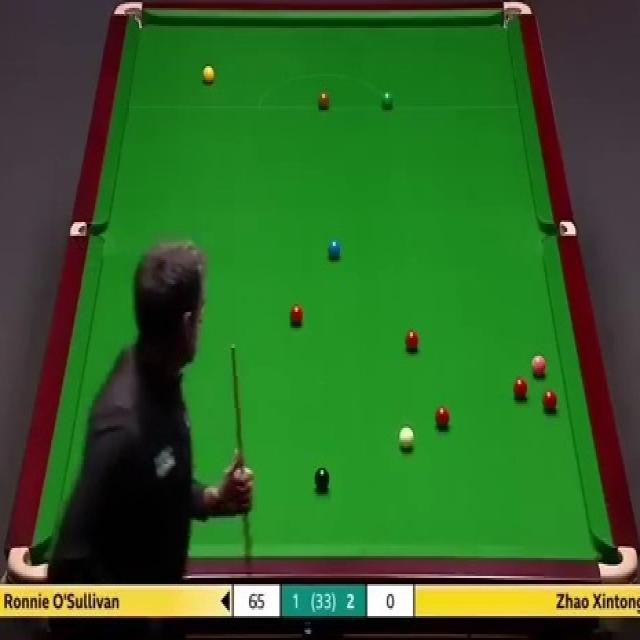black-ball: (316, 468, 329, 490)
blue-ball: (328, 236, 341, 262)
brown-ball: (317, 91, 331, 109)
green-ball: (380, 88, 395, 110)
pink-ball: (530, 355, 546, 377)
red-ball: (433, 407, 451, 432), (403, 330, 420, 352), (542, 389, 557, 411), (513, 376, 528, 396), (289, 303, 303, 324)
white-ball: (399, 428, 414, 448)
yellow-ball: (203, 66, 215, 85)
